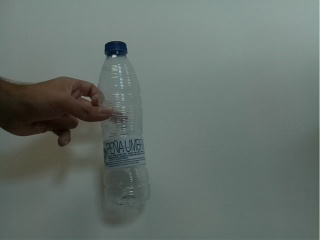botella plastico: (96, 39, 153, 209)
